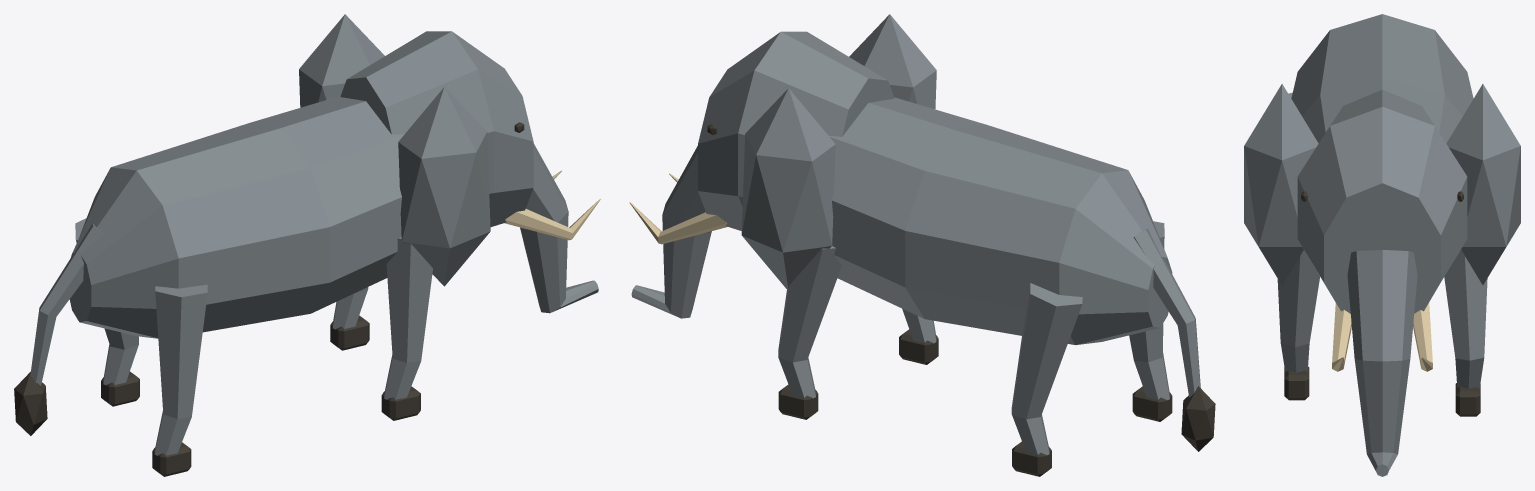
The model's file is elephant.glb.
The picture shows the model from 3 angles, left to right: view 1: azimuth 30°, elevation 25°; view 2: azimuth 150°, elevation 25°; view 3: azimuth 270°, elevation 25°; orthographic projection.
Visible parts, largest first — view 1: Sculpted silhouette, Sculpted silhouette.001, Icosphere, Tapered form, Tapered form.002, Tapered form.004, Icosphere.001, Tapered form.007, Tapered form.001, Icosphere.002, Tapered form.005, Cube.003 (+4 smaller); view 2: Sculpted silhouette, Sculpted silhouette.001, Icosphere.001, Tapered form.001, Tapered form.004, Tapered form.003, Icosphere, Tapered form.007, Tapered form, Icosphere.002, Tapered form.006, Cube (+4 smaller); view 3: Sculpted silhouette.001, Sculpted silhouette, Tapered form.004, Icosphere, Icosphere.001, Tapered form.003, Tapered form.002, Tapered form.006, Tapered form.005, Cube.002, Cube.003.
Part boxes in pixels (left/top/right/bottom): Sculpted silhouette: left=69, top=96, right=404, bottom=338; Sculpted silhouette.001: left=340, top=31, right=533, bottom=227; Icosphere: left=398, top=87, right=490, bottom=286; Tapered form: left=154, top=284, right=207, bottom=455; Tapered form.002: left=384, top=237, right=432, bottom=399; Tapered form.004: left=520, top=143, right=598, bottom=313; Icosphere.001: left=299, top=14, right=384, bottom=107; Tapered form.007: left=31, top=223, right=103, bottom=385; Tapered form.001: left=75, top=218, right=138, bottom=385; Icosphere.002: left=14, top=371, right=47, bottom=435; Tapered form.005: left=504, top=199, right=600, bottom=240; Cube.003: left=330, top=315, right=369, bottom=350; Sculpted silhouette: left=829, top=97, right=1172, bottom=345; Sculpted silhouette.001: left=698, top=31, right=894, bottom=230; Icosphere.001: left=741, top=88, right=835, bottom=290; Tapered form.001: left=1011, top=283, right=1082, bottom=455; Tapered form.004: left=631, top=146, right=711, bottom=318; Tapered form.003: left=778, top=246, right=841, bottom=398; Icosphere: left=849, top=14, right=936, bottom=109; Tapered form.007: left=1133, top=228, right=1200, bottom=397; Tapered form: left=1129, top=221, right=1169, bottom=400; Icosphere.002: left=1181, top=386, right=1215, bottom=451; Tapered form.006: left=629, top=202, right=727, bottom=244; Cube: left=1132, top=386, right=1172, bottom=421; Sculpted silhouette.001: left=1297, top=89, right=1467, bottom=313; Sculpted silhouette: left=1291, top=14, right=1473, bottom=143; Tapered form.004: left=1347, top=250, right=1417, bottom=476; Icosphere: left=1244, top=84, right=1318, bottom=285; Icosphere.001: left=1446, top=84, right=1520, bottom=284; Tapered form.003: left=1444, top=250, right=1487, bottom=388; Tapered form.002: left=1277, top=250, right=1319, bottom=372; Tapered form.006: left=1413, top=302, right=1432, bottom=371; Tapered form.005: left=1332, top=303, right=1351, bottom=371; Cube.002: left=1284, top=366, right=1309, bottom=400; Cube.003: left=1455, top=383, right=1480, bottom=416.
Bounding box in the file's own units: 1.2 × 0.66 × 0.4961.
